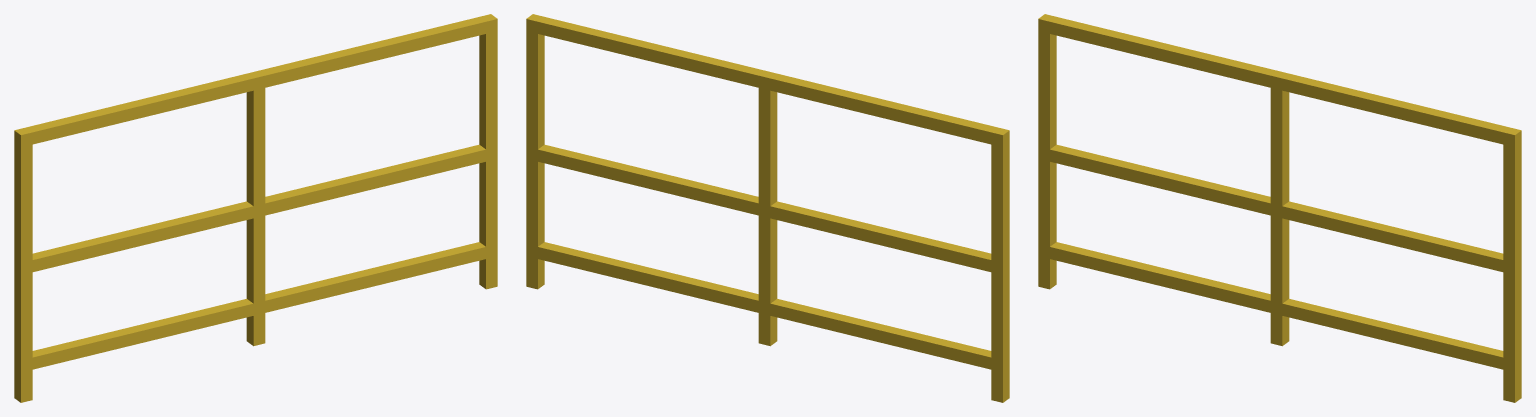
The picture shows the model from 3 angles, left to right: view 1: azimuth 30°, elevation 25°; view 2: azimuth 150°, elevation 25°; view 3: azimuth 330°, elevation 25°; orthographic projection.
Visible parts, largest first — view 1: rail2, rail1, rail0, post0, post1, post2; view 2: rail2, rail1, rail0, post0, post1, post2; view 3: rail2, rail1, rail0, post2, post1, post0.
Part boxes in pixels (x1,y1,x2,y2): rail2: (20, 15, 491, 145); rail1: (26, 144, 485, 273); rail0: (26, 242, 491, 369); post0: (14, 128, 32, 402); post1: (246, 75, 265, 346); post2: (479, 14, 497, 289); rail2: (532, 15, 1003, 145); rail1: (538, 144, 997, 273); rail0: (538, 242, 997, 370); post0: (991, 128, 1009, 402); post1: (758, 74, 777, 346); post2: (526, 14, 544, 289); rail2: (1044, 15, 1515, 145); rail1: (1044, 144, 1509, 273); rail0: (1050, 242, 1509, 370); post2: (1503, 129, 1521, 402); post1: (1270, 74, 1289, 346); post0: (1038, 14, 1056, 289).
Size of the model in its own units: 2.05 by 1.1 by 0.05.
